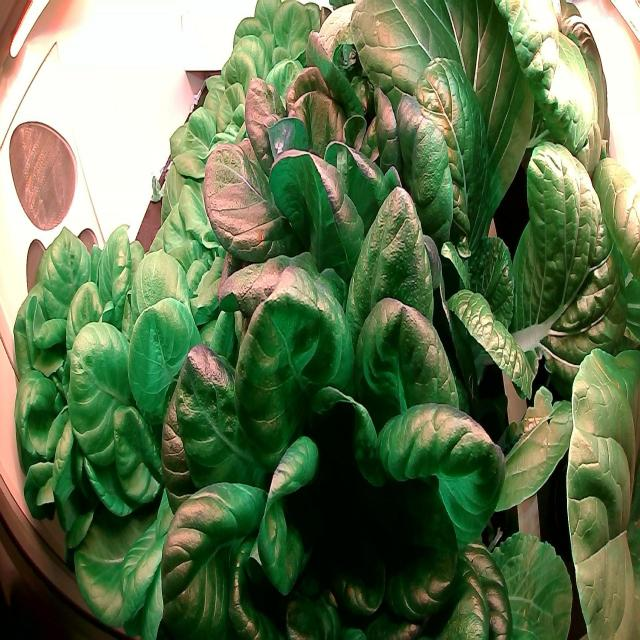Ready: (152, 136, 544, 640), (190, 49, 484, 388), (65, 241, 259, 640), (12, 221, 148, 535), (136, 139, 244, 340), (221, 0, 328, 142), (169, 68, 267, 220)
